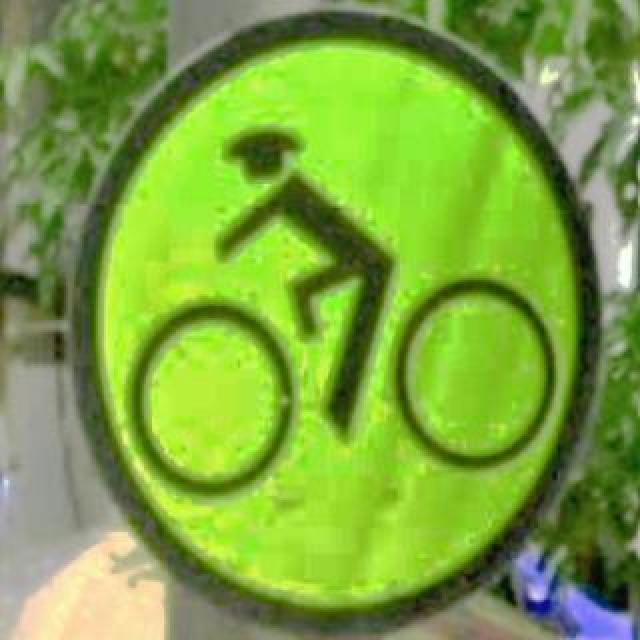bike lane: (66, 6, 598, 638)
